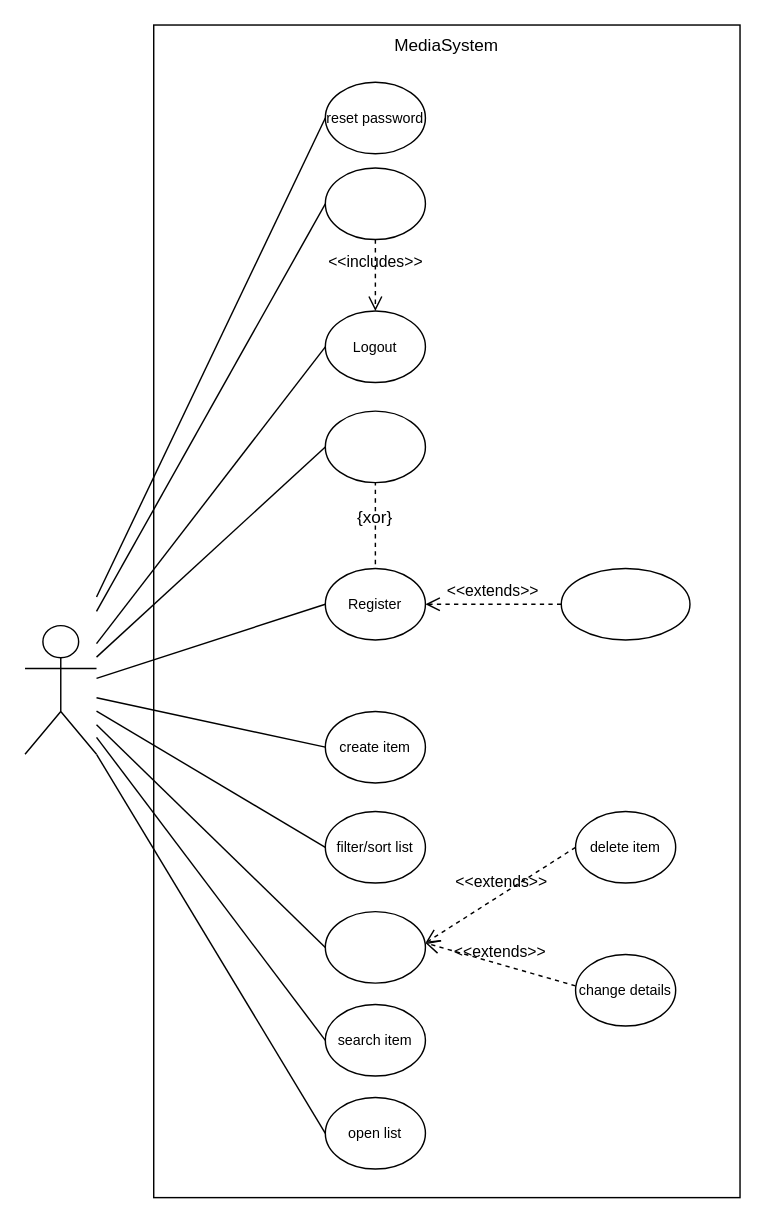
The diagram is 765 pixels wide and 1223 high, and some of its shapes have lost their labels. Here are the shapes that lost their labels. From the top down, the centre of each, then its label:
At (x=374, y=203): "delete account".
At (x=374, y=446): "Login".
At (x=625, y=603): "verify activation code".
At (x=60, y=689): "User".
At (x=374, y=946): "edit item".
